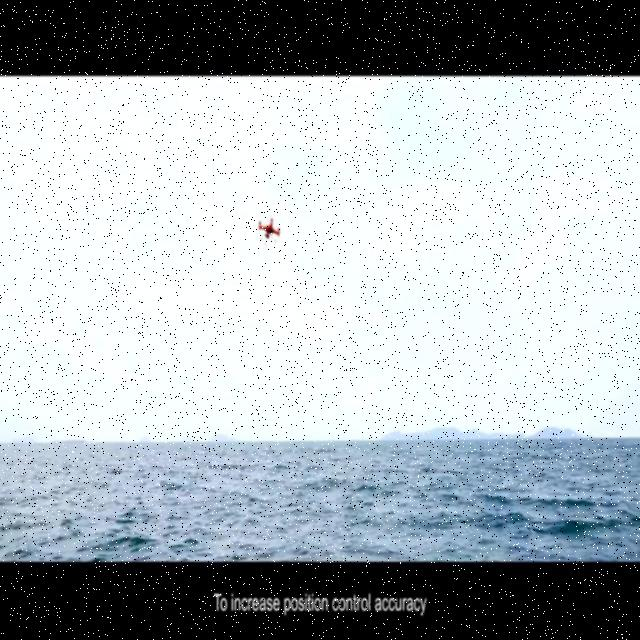UAV: (258, 218, 280, 245)
